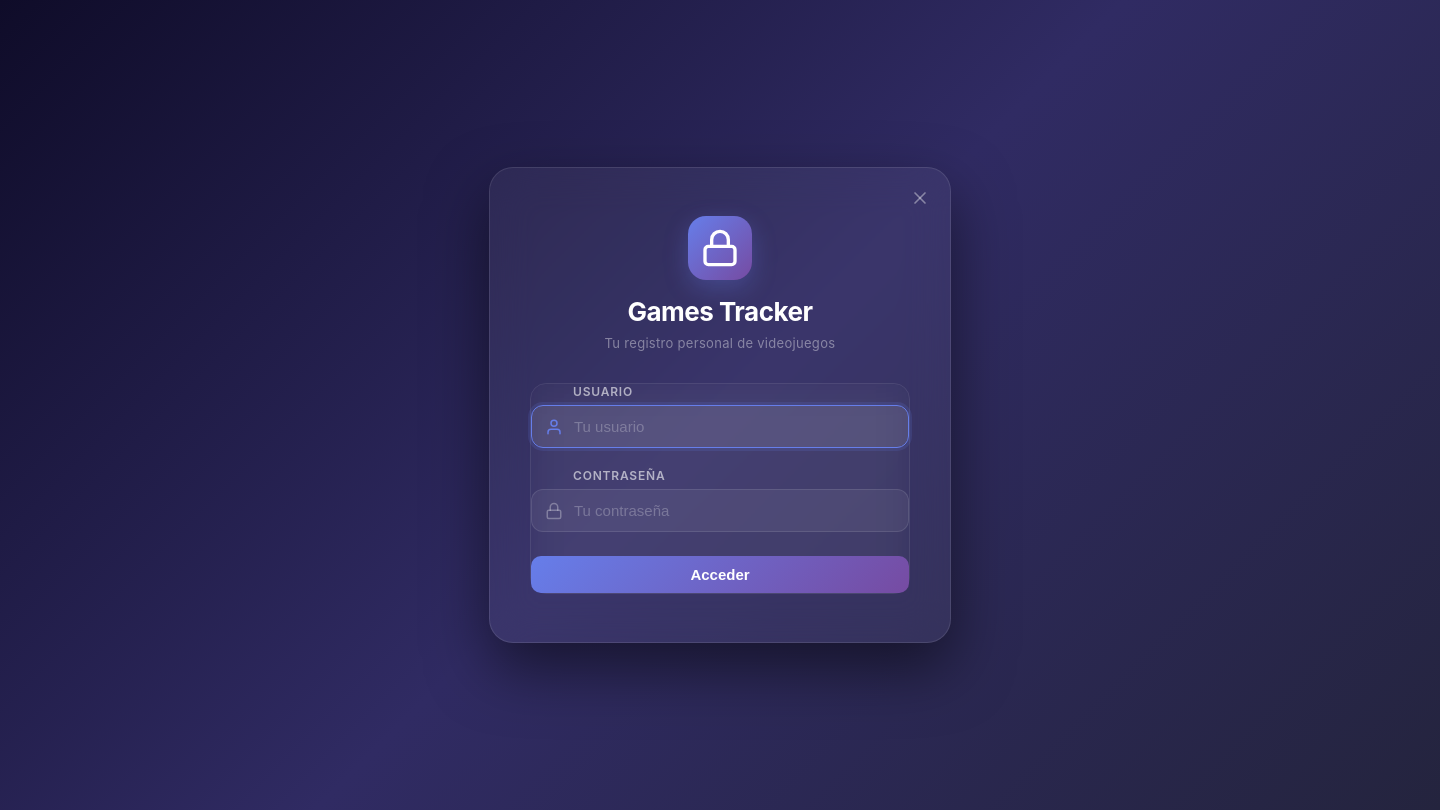
Scenario: shows validation error when fields are empty
Click the button "Acceder": (720, 574) [531,556,909,593]
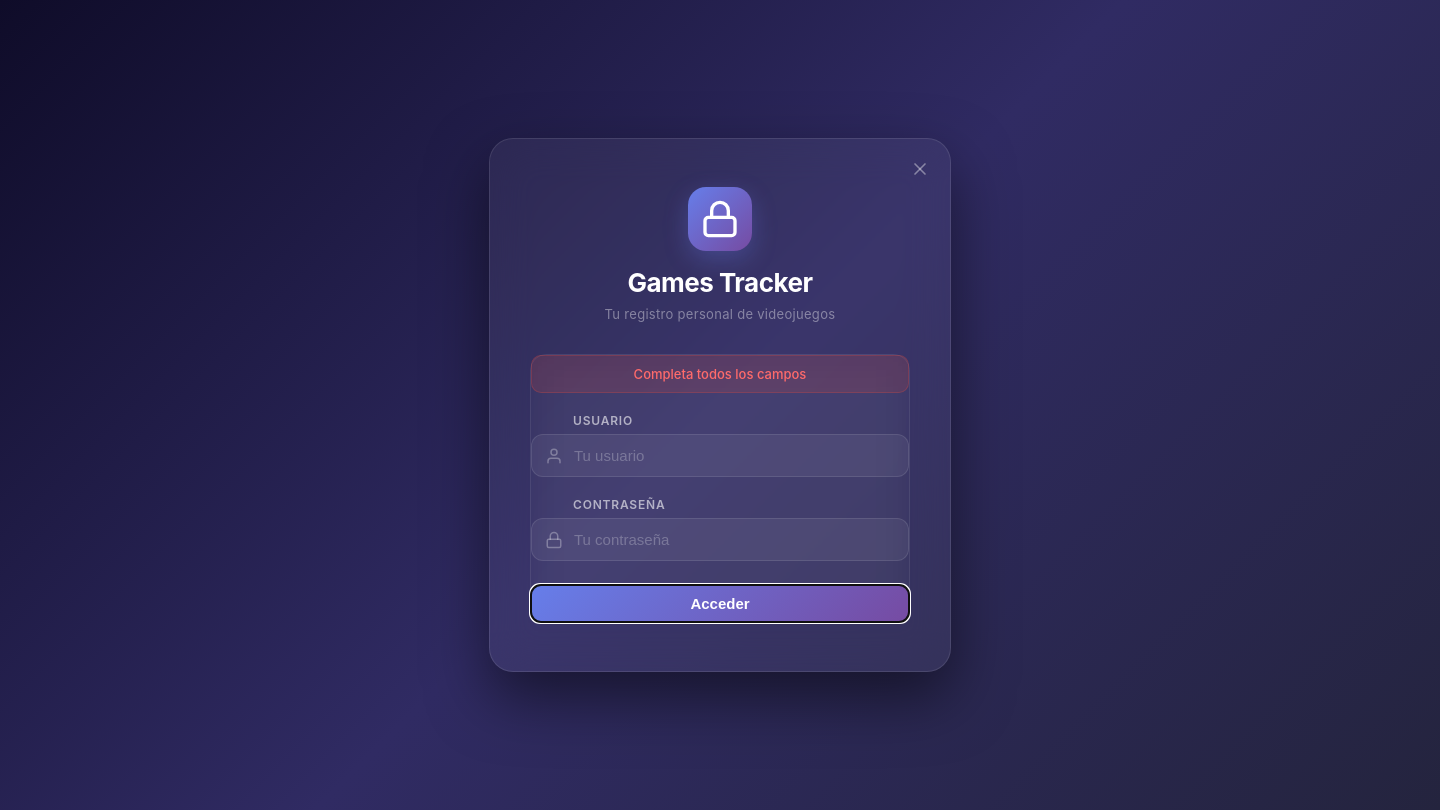
Result: the text "Completa todos los campos" is shown at [531,355,909,393]
